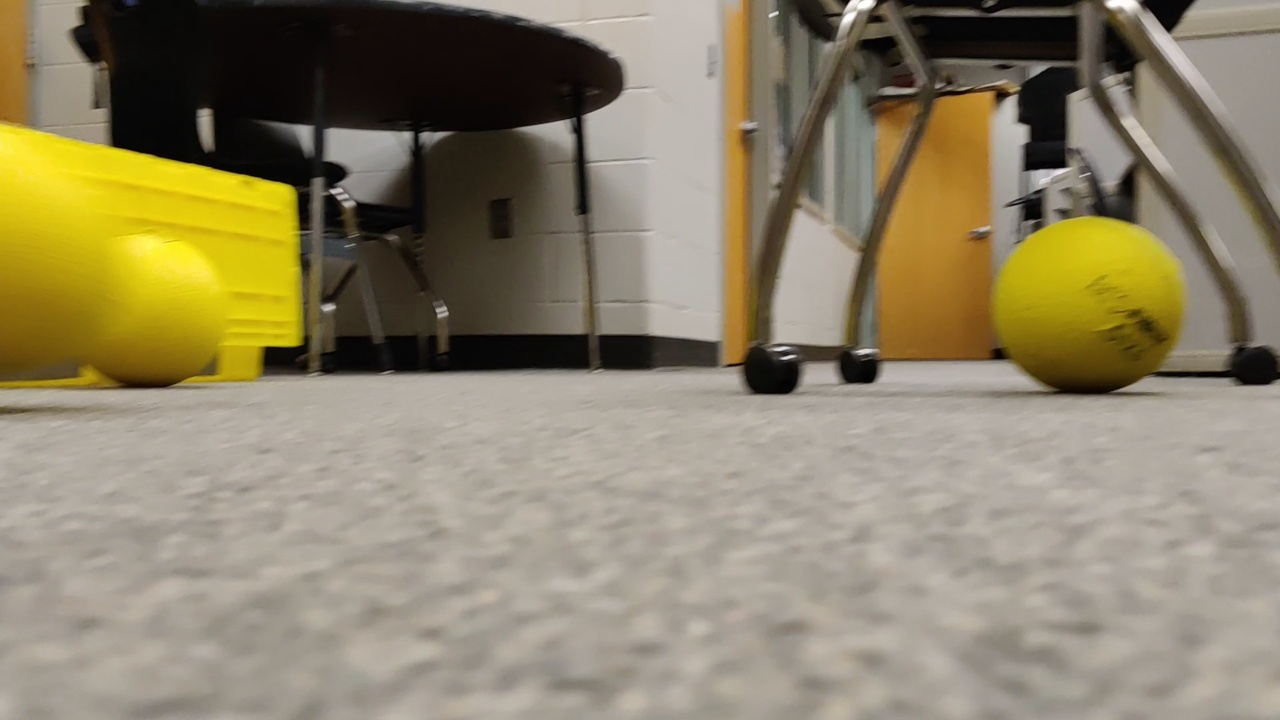Ball: (986, 217, 1187, 398), (80, 236, 232, 393), (3, 151, 103, 388)
